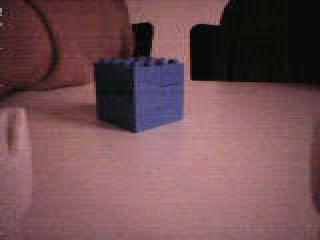legocube: (91, 54, 187, 134)
